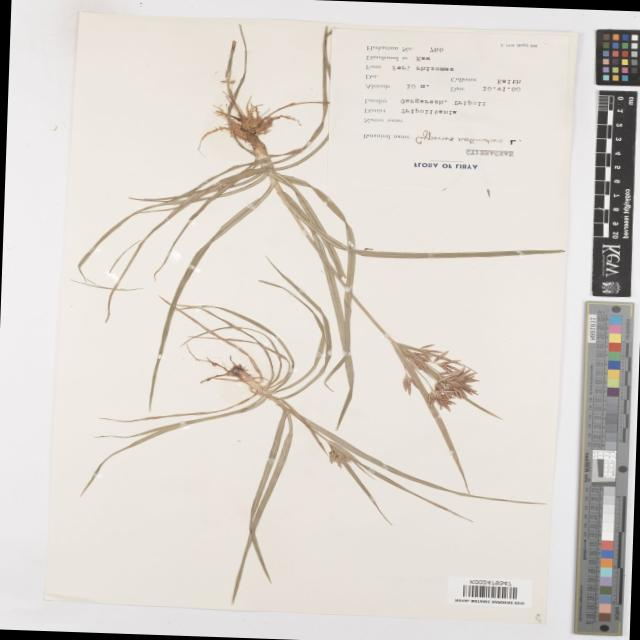cyperus: (384, 337, 494, 421)
